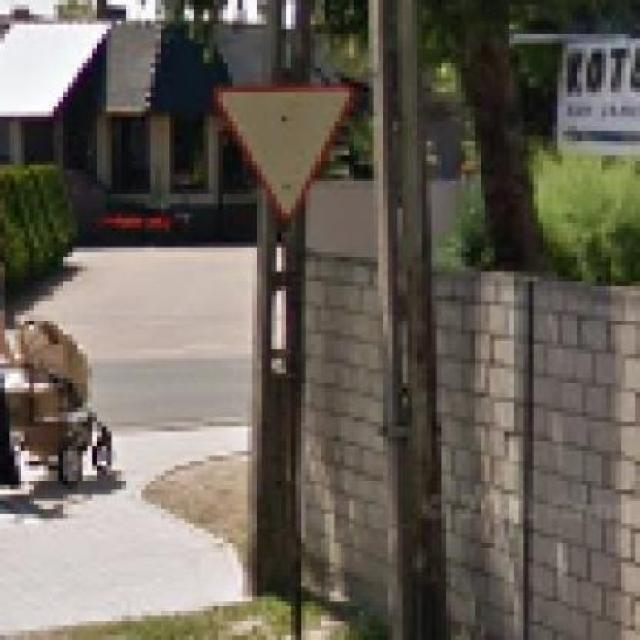Ustap pierwszenstwa: (211, 82, 357, 224)
